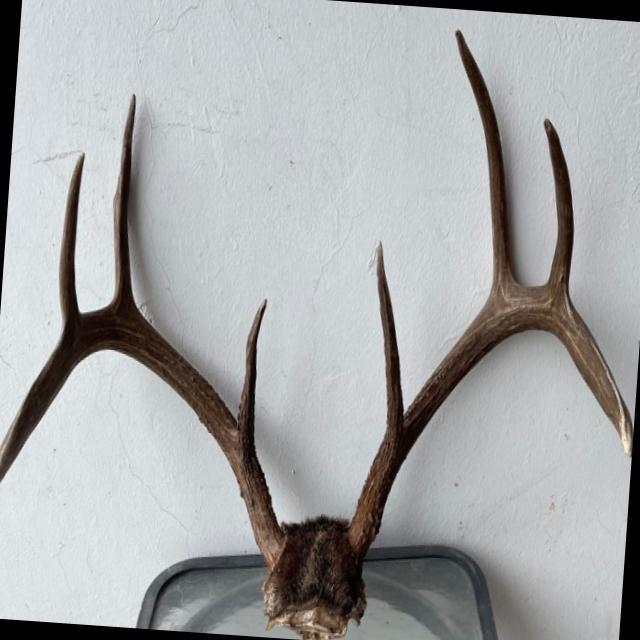L-F: (345, 286, 633, 563)
L-G1: (376, 240, 405, 438)
L-G2: (454, 28, 523, 305)
L-G3: (542, 117, 574, 306)
R-F: (0, 308, 284, 574)
R-G1: (236, 297, 268, 448)
R-G2: (98, 92, 143, 317)
R-G3: (58, 151, 84, 332)
